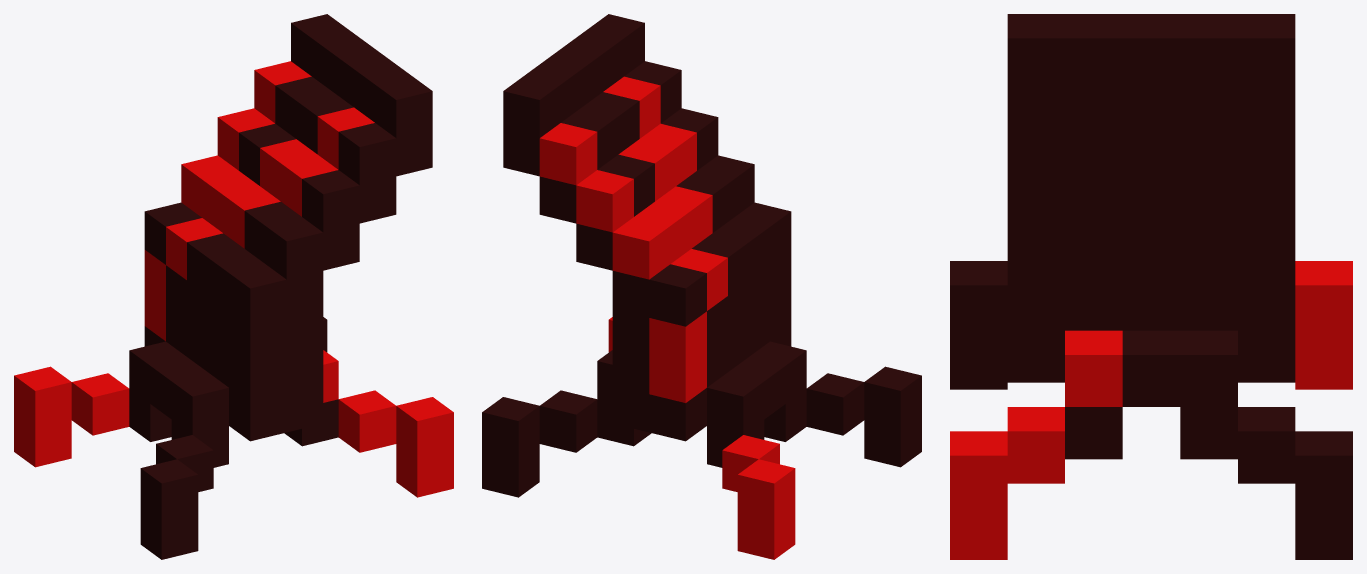
The model's file is Prototype_boss_animation-0.obj.
3 views of the same model, side by side, from view 1: azimuth 30°, elevation 25°; view 2: azimuth 150°, elevation 25°; view 3: azimuth 270°, elevation 25° (orthographic). The views are drawn at different scales.
Bounding box in the file's own units: 0.8 × 1 × 0.7.
1 material, 1 textured.
